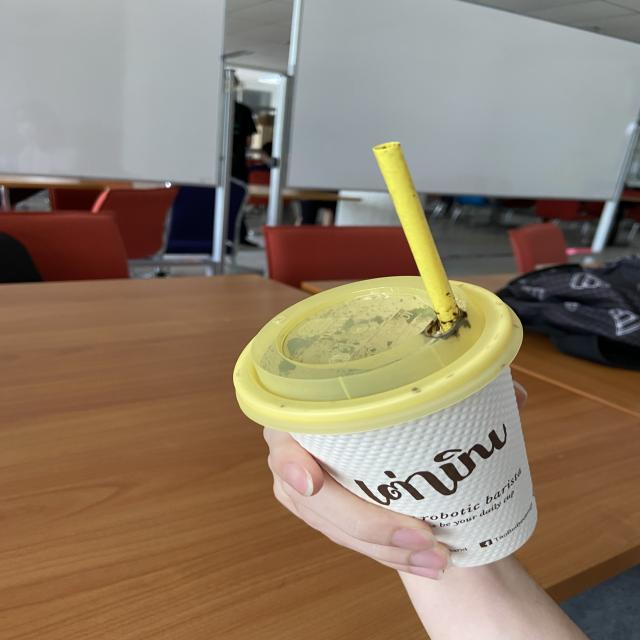cup: (234, 275, 540, 569)
